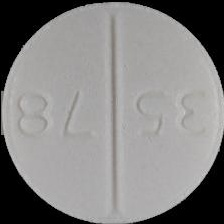0179-0056: (0, 0, 224, 224)
